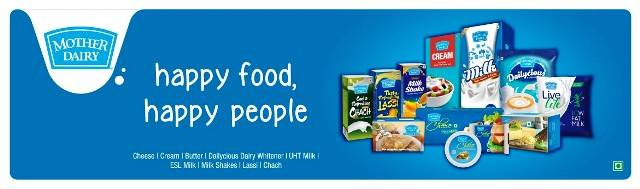Mother_Dairy: (39, 24, 125, 76)
